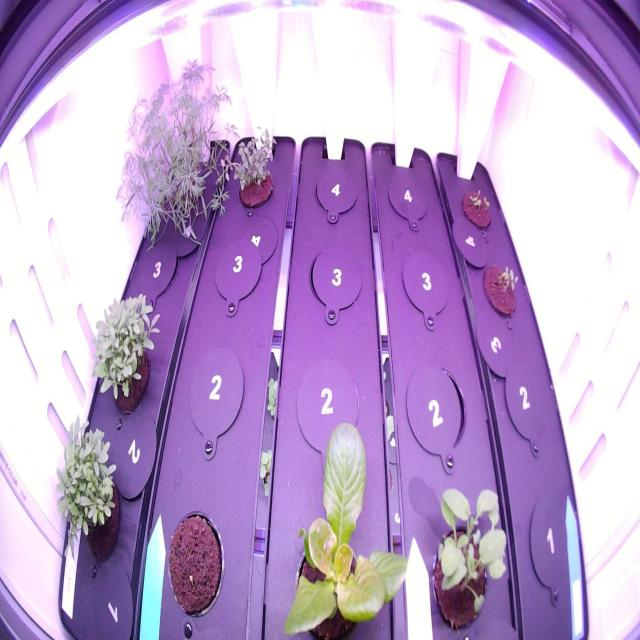empty_pod: (289, 346, 370, 456), (402, 358, 471, 458), (521, 490, 583, 596), (183, 344, 248, 442), (499, 357, 563, 451), (394, 240, 456, 331), (304, 234, 366, 321), (209, 232, 267, 316), (128, 228, 184, 305), (382, 161, 436, 236), (310, 160, 360, 221)
germination: (227, 124, 281, 212), (477, 250, 527, 320), (455, 174, 500, 236)
pod: (162, 502, 230, 628)
young: (259, 412, 421, 638)
